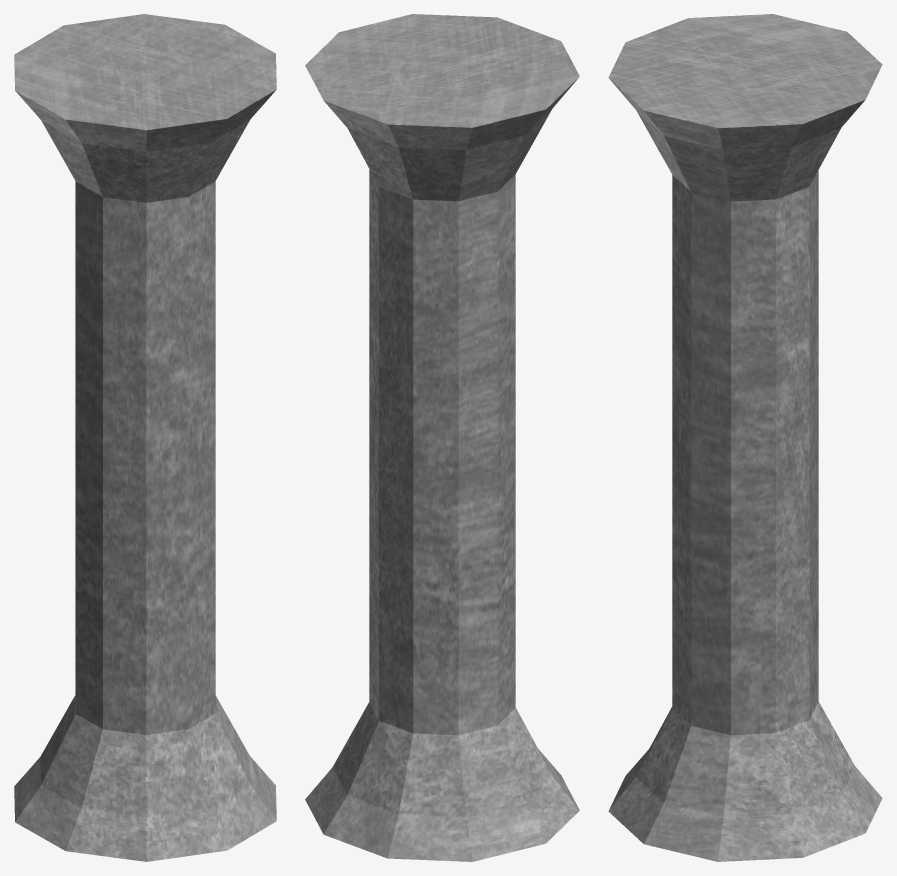
Rendered from Columna.fbx.
3 views of the same model, side by side, from view 1: azimuth 30°, elevation 25°; view 2: azimuth 150°, elevation 25°; view 3: azimuth 270°, elevation 25° (orthographic).
Parts seen in each view (by area): view 1: root; view 2: root; view 3: root.
Part boxes in pixels (<box>): root: <box>14,14,276,861</box>; root: <box>305,14,579,861</box>; root: <box>608,14,882,861</box>.
Size of the model in its own units: 0.1711 by 0.512 by 0.1734.
1 material, 1 textured.
